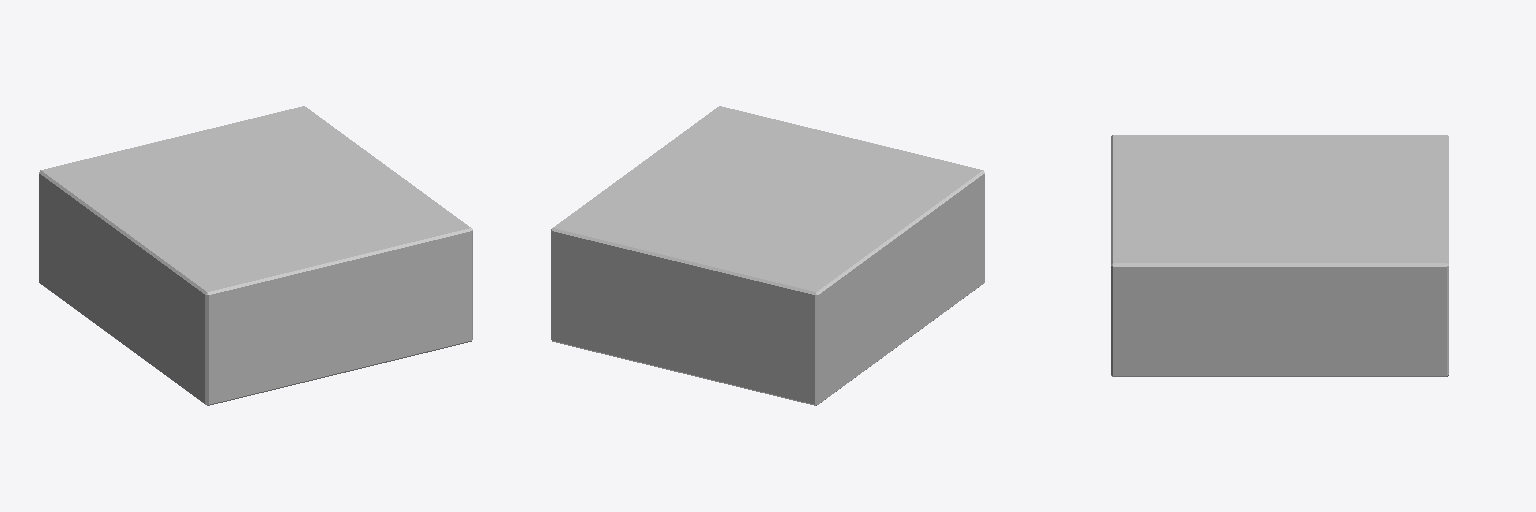
The model's file is Input_prediction_mesh.obj.
3 renders of one model, left to right at view 1: azimuth 30°, elevation 25°; view 2: azimuth 150°, elevation 25°; view 3: azimuth 270°, elevation 25°, orthographic.
Visible parts, largest first — view 1: mat0; view 2: mat0; view 3: mat0, mat2.
Part boxes in pixels (x1,y1,x2,y2): mat0: (39, 106, 472, 405); mat0: (551, 106, 984, 405); mat0: (1111, 135, 1448, 376); mat2: (1128, 280, 1421, 344).
Size of the model in its own units: 5.12 by 2.08 by 5.6.